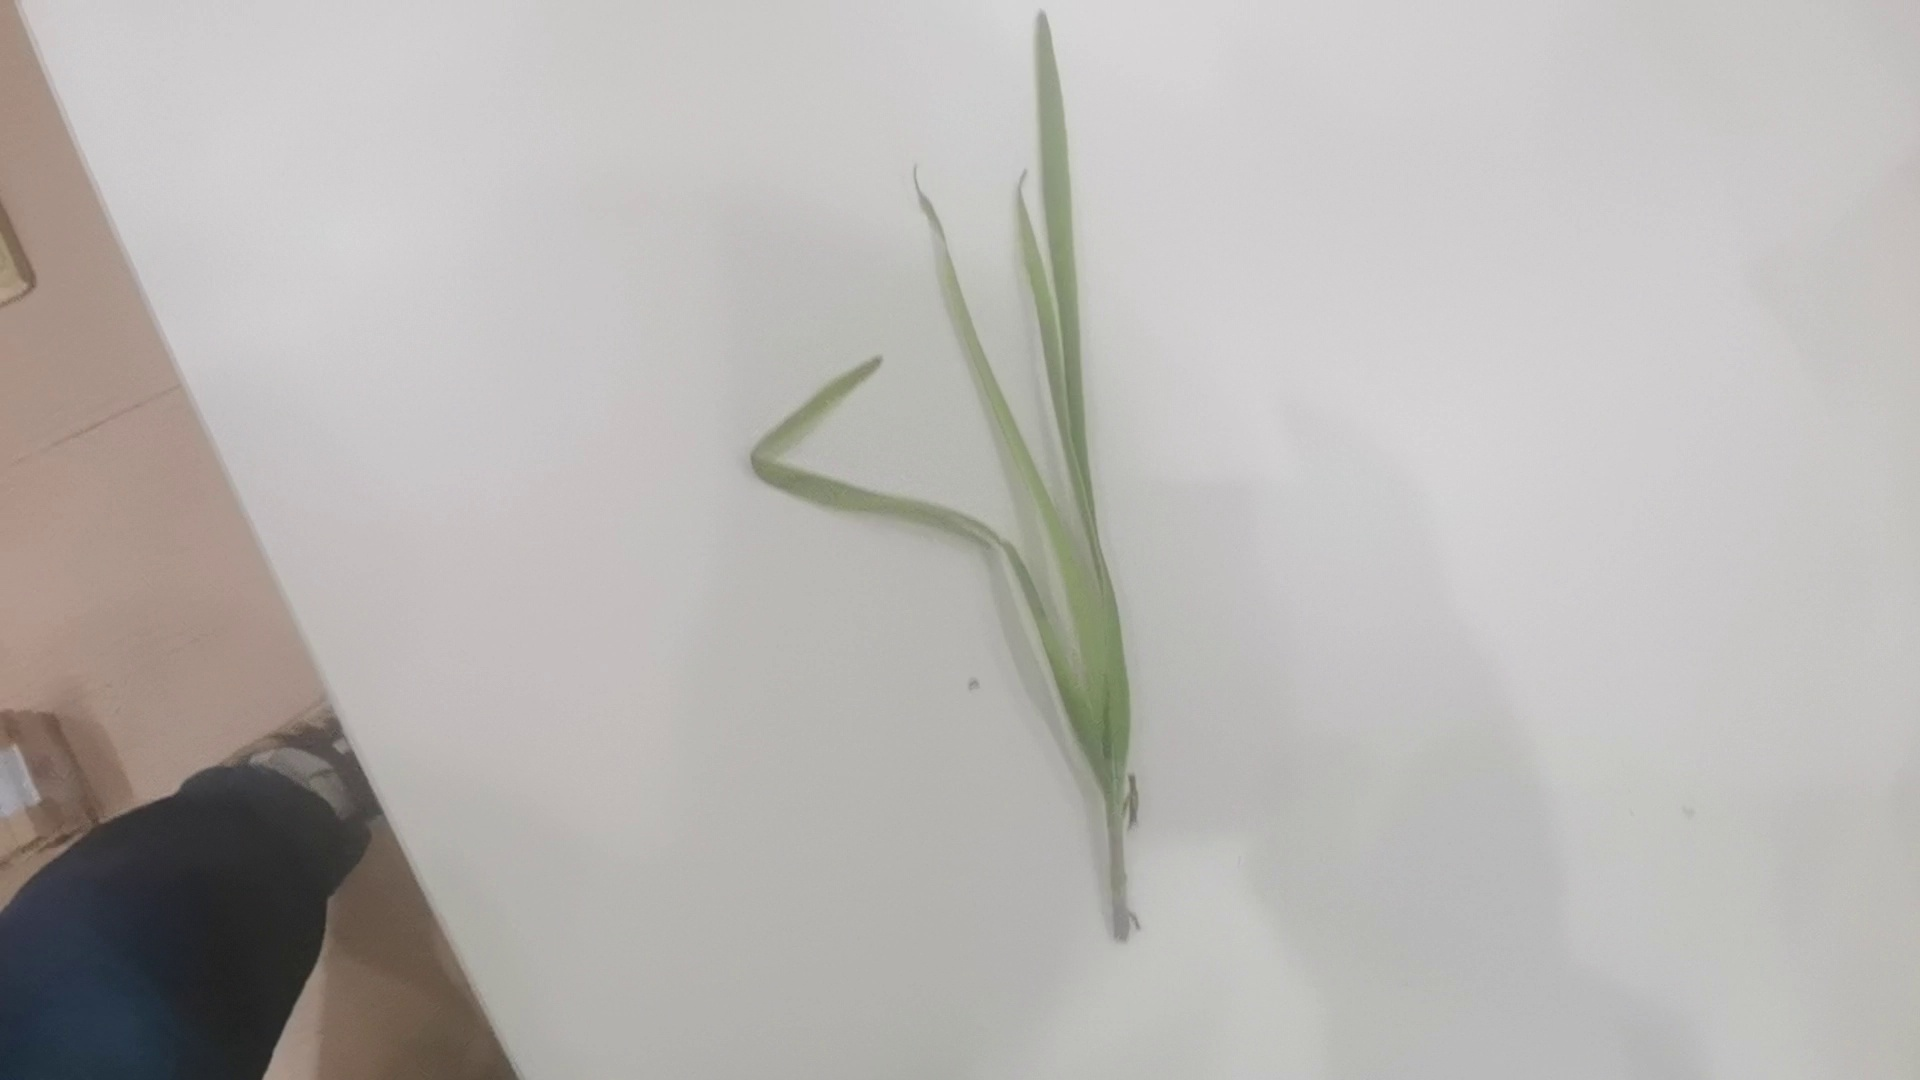chives: (745, 12, 1168, 942)
